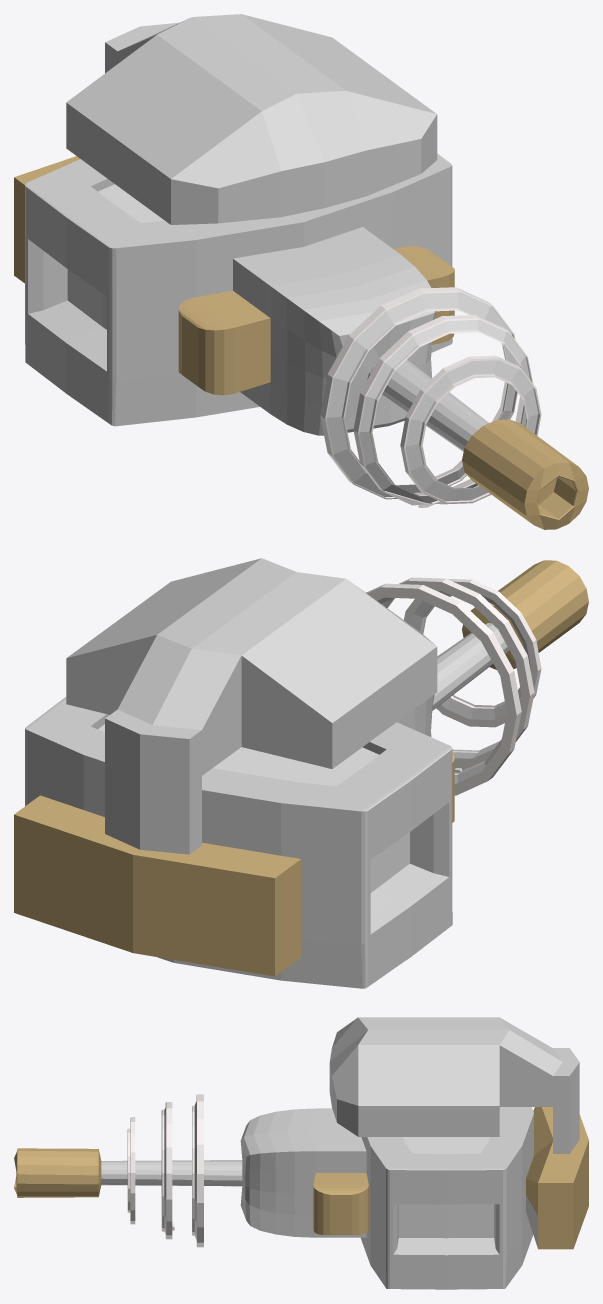
Rendered from francotiradorsuperior.fbx.
The picture shows the model from 3 angles, top to bottom: view 1: azimuth 30°, elevation 25°; view 2: azimuth 150°, elevation 25°; view 3: azimuth 270°, elevation 25°; orthographic projection. The views are drawn at different scales.
Parts seen in each view (by area): view 1: Cube.024; view 2: Cube.024; view 3: Cube.024.
Part boxes in pixels (x1,y1,x2,y2): Cube.024: (14,14,588,529); Cube.024: (14,558,588,988); Cube.024: (14,1017,588,1289).
Size of the model in its own units: 150 by 142 by 322.
